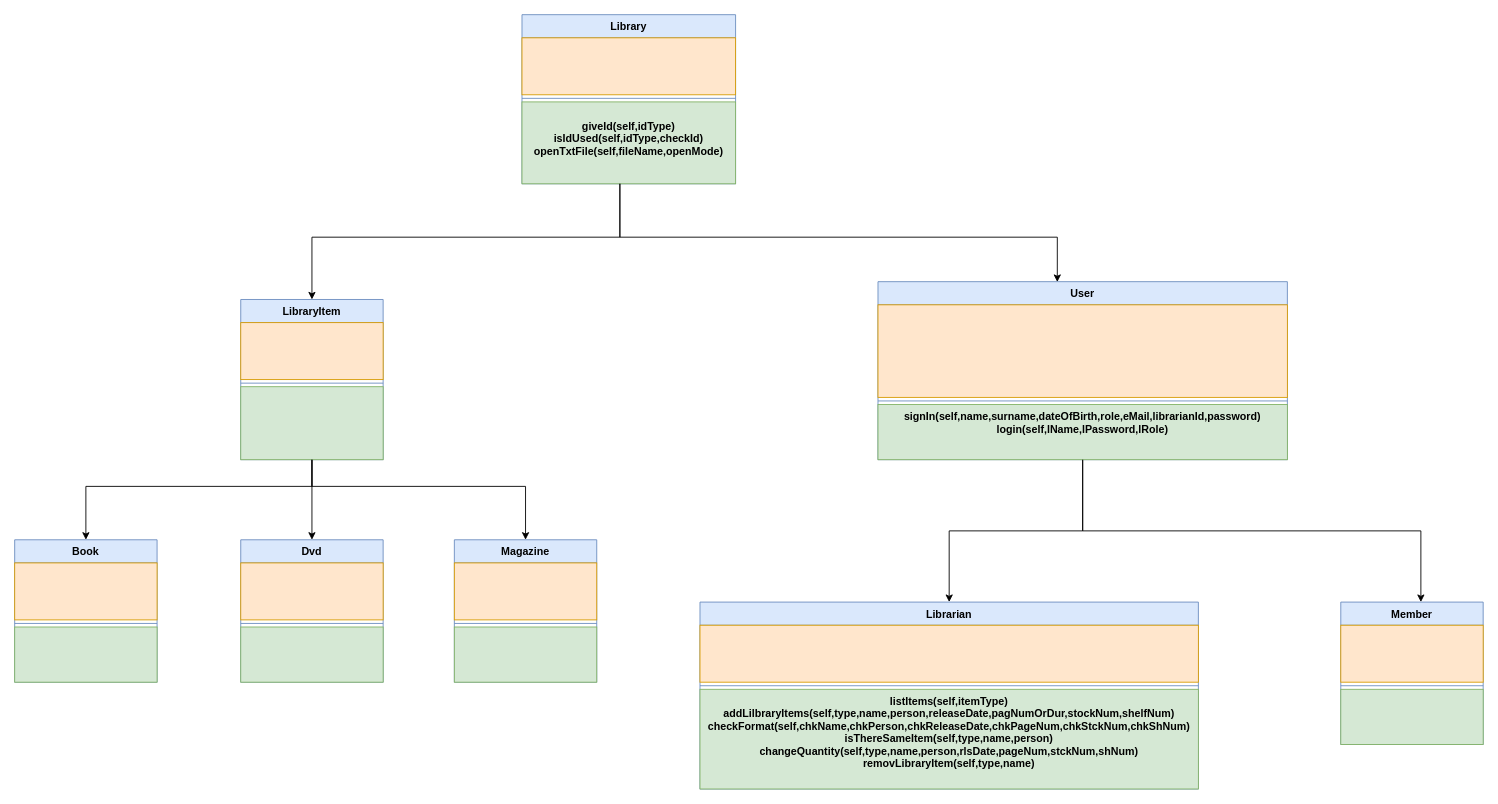
Some shapes in this 1498 by 804 pixel diagram are drawn without their labels. The centre of each missing label's shape, as x and y in pixels:
borrowItem()-abstract returnItem()-abstract: point 311,423
Name RegistrationDate Id: point 628,66
stockQuantity shelfQuantity: point 311,351
Surname dateOfBirth Role Spec Password: point 1082,350
